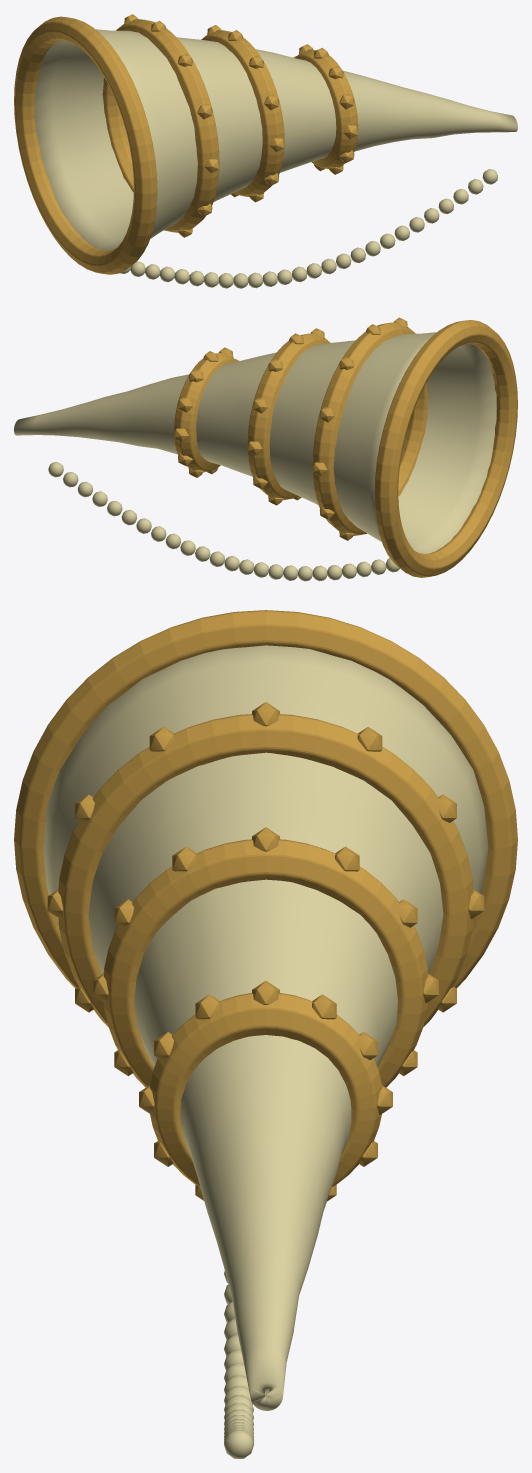
3 views of the same model, one above another, from view 1: azimuth 30°, elevation 25°; view 2: azimuth 150°, elevation 25°; view 3: azimuth 270°, elevation 25° (orthographic). The views are drawn at different scales.
Parts seen in each view (by area): view 1: TI065 / curving hollow horn shell, TI065 / decorative mouth rim, TI065 / gold ornamental band.002, TI065 / gold ornamental band.001, TI065 / gold ornamental band; view 2: TI065 / curving hollow horn shell, TI065 / decorative mouth rim, TI065 / gold ornamental band.002, TI065 / gold ornamental band.001, TI065 / gold ornamental band; view 3: TI065 / curving hollow horn shell, TI065 / decorative mouth rim, TI065 / gold ornamental band.002, TI065 / gold ornamental band.001, TI065 / gold ornamental band.
Part boxes in pixels (x1,y1,x2,y2): TI065 / curving hollow horn shell: (34, 29, 517, 250); TI065 / decorative mouth rim: (14, 16, 157, 274); TI065 / gold ornamental band.002: (102, 19, 219, 232); TI065 / gold ornamental band.001: (201, 30, 284, 196); TI065 / gold ornamental band: (295, 49, 358, 168); TI065 / curving hollow horn shell: (14, 332, 496, 553); TI065 / decorative mouth rim: (374, 320, 517, 577); TI065 / gold ornamental band.002: (312, 322, 428, 535); TI065 / gold ornamental band.001: (247, 333, 330, 500); TI065 / gold ornamental band: (174, 352, 237, 472); TI065 / curving hollow horn shell: (43, 645, 488, 1410); TI065 / decorative mouth rim: (14, 610, 517, 988); TI065 / gold ornamental band.002: (58, 714, 473, 1026); TI065 / gold ornamental band.001: (103, 839, 428, 1087); TI065 / gold ornamental band: (149, 993, 382, 1186).
Bounding box in the file's own units: 2.88 × 1.88 × 1.5.
